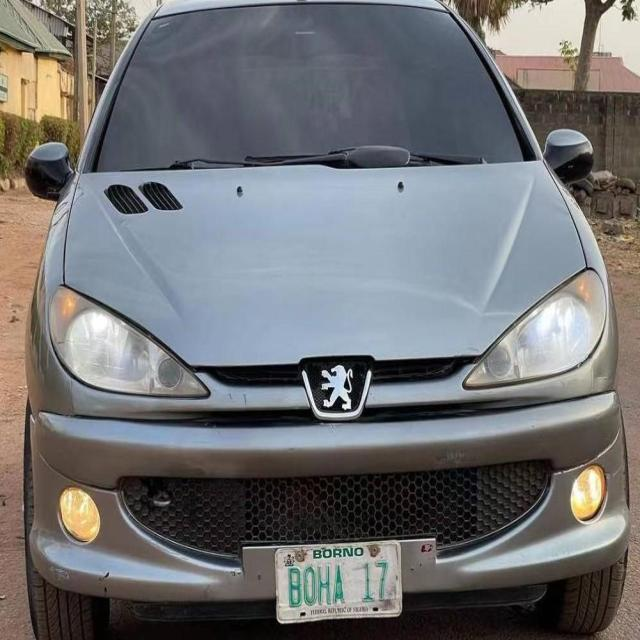Nigerian License Plate - vdataset benjamin-daria: (273, 536, 407, 628)
